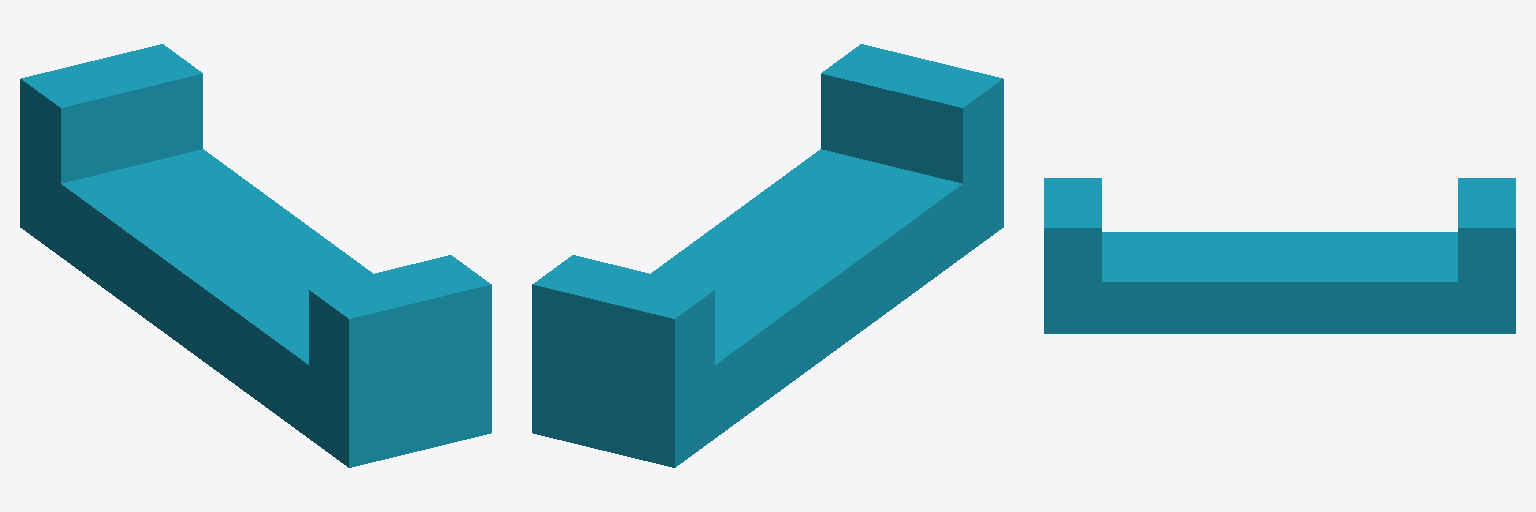
robot.urdf — obj_3:
<robot name="obj_3" version="1.0">
  <link name="obj_3">
    <collision name="interlocking-puzzle-2-1-collision.001">
      <origin rpy="0.00000 0.00000 0.00000" xyz="-0.41015 0.75889 0.23863"/>
      <geometry>
        <mesh filename="../meshes/obj/interlocking-puzzle-2-1-collision.001.obj" scale="2.09740 2.08327 2.09740"/>
      </geometry>
    </collision>
    <collision name="interlocking-puzzle-2-1-collision.002">
      <origin rpy="0.00000 0.00000 0.00000" xyz="-0.41015 0.22855 0.23862"/>
      <geometry>
        <mesh filename="../meshes/obj/interlocking-puzzle-2-1-collision.002.obj" scale="2.09740 2.08387 2.09740"/>
      </geometry>
    </collision>
    <collision name="interlocking-puzzle-2-1-collision.003">
      <origin rpy="0.00000 0.00000 0.00000" xyz="-0.41729 0.44640 0.20677"/>
      <geometry>
        <mesh filename="../meshes/obj/interlocking-puzzle-2-1-collision.003.obj" scale="2.09740 2.09740 2.09740"/>
      </geometry>
    </collision>
    <inertial>
      <inertia ixx="0.00526" ixy="0.00000" ixz="-0.00000" iyy="0.00055" iyz="-0.00000" izz="0.00518"/>
      <origin rpy="0.00000 0.00000 0.00000" xyz="-0.41731 0.49367 0.21495"/>
      <mass value="0.03000"/>
    </inertial>
    <visual name="interlocking-puzzle-2-1">
      <material name="Light Blue"/>
      <origin rpy="1.57080 0.00000 -1.57080" xyz="-0.41731 0.49367 0.25831"/>
      <geometry>
        <mesh filename="../meshes/obj/interlocking-puzzle-2.obj" scale="0.01049 0.01049 0.01049"/>
      </geometry>
    </visual>
  </link>
  <material name="Light Blue">
    <color rgba="0.15294 0.68627 0.80000 1.00000"/>
  </material>
</robot>

--- Facts derived from the render (not from the file) ---
Views: 3 orthographic renders of the robot side by side, from view 1: azimuth 30°, elevation 25°; view 2: azimuth 150°, elevation 25°; view 3: azimuth 270°, elevation 25°.
Model obj_3 with 1 links and 0 joints (none), rooted at obj_3, posed all joints at 0.
Links seen in each view (by area): view 1: obj_3; view 2: obj_3; view 3: obj_3.
Boxes of the visible links, box(x1,y1,x2,y2) form: obj_3: box(20, 44, 491, 467); obj_3: box(532, 44, 1003, 467); obj_3: box(1044, 178, 1515, 333).
Bounding box of the posed robot: 0.1574 × 0.6294 × 0.1574 m (x, y, z).
Meshes: 1 distinct files referenced, 1 mesh visuals loaded (1 OBJ).